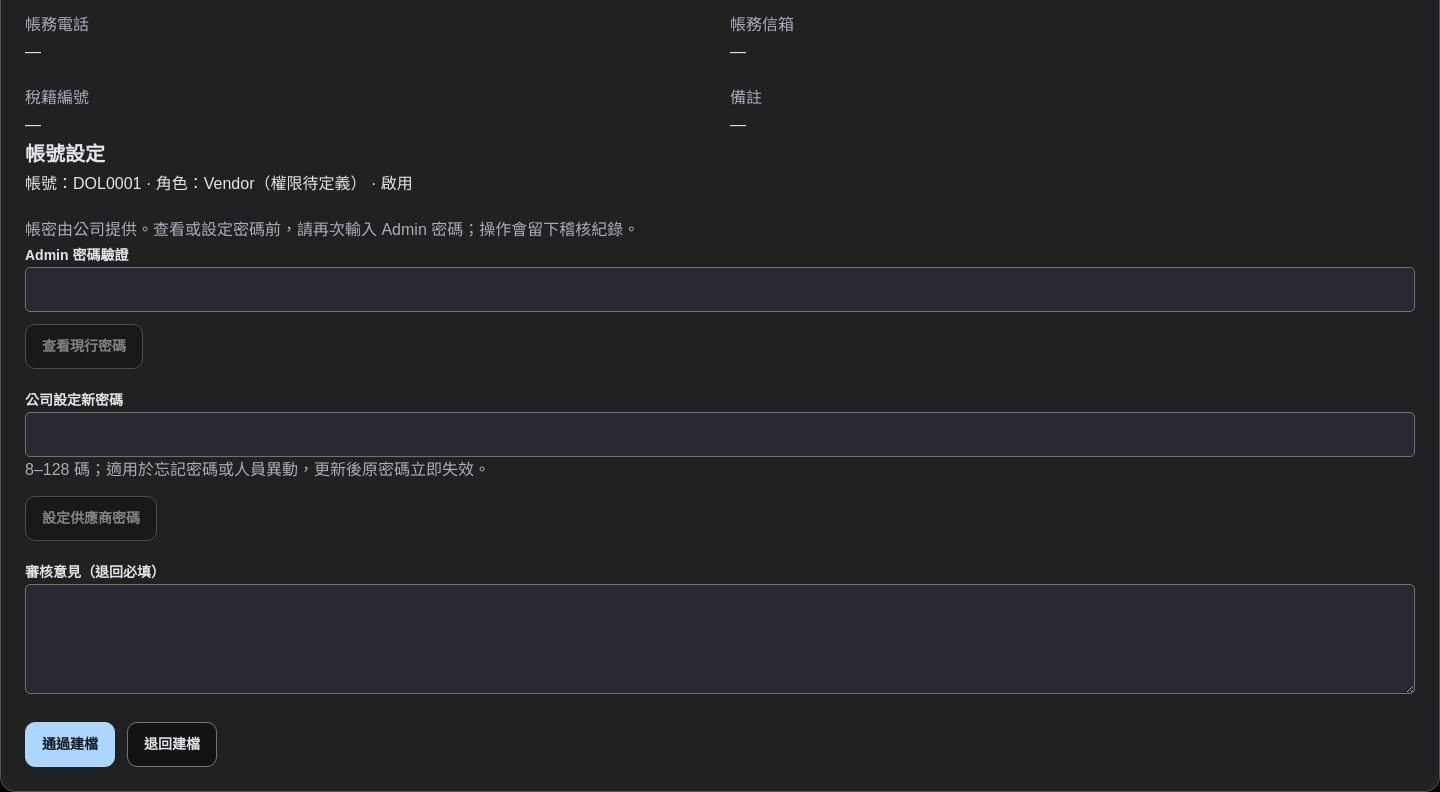
Test: 建檔審核寫入API並更新畫面
(page scrolled)
Click the button "通過建檔" at [70, 745], box [25,722,115,767]
(page scrolled)
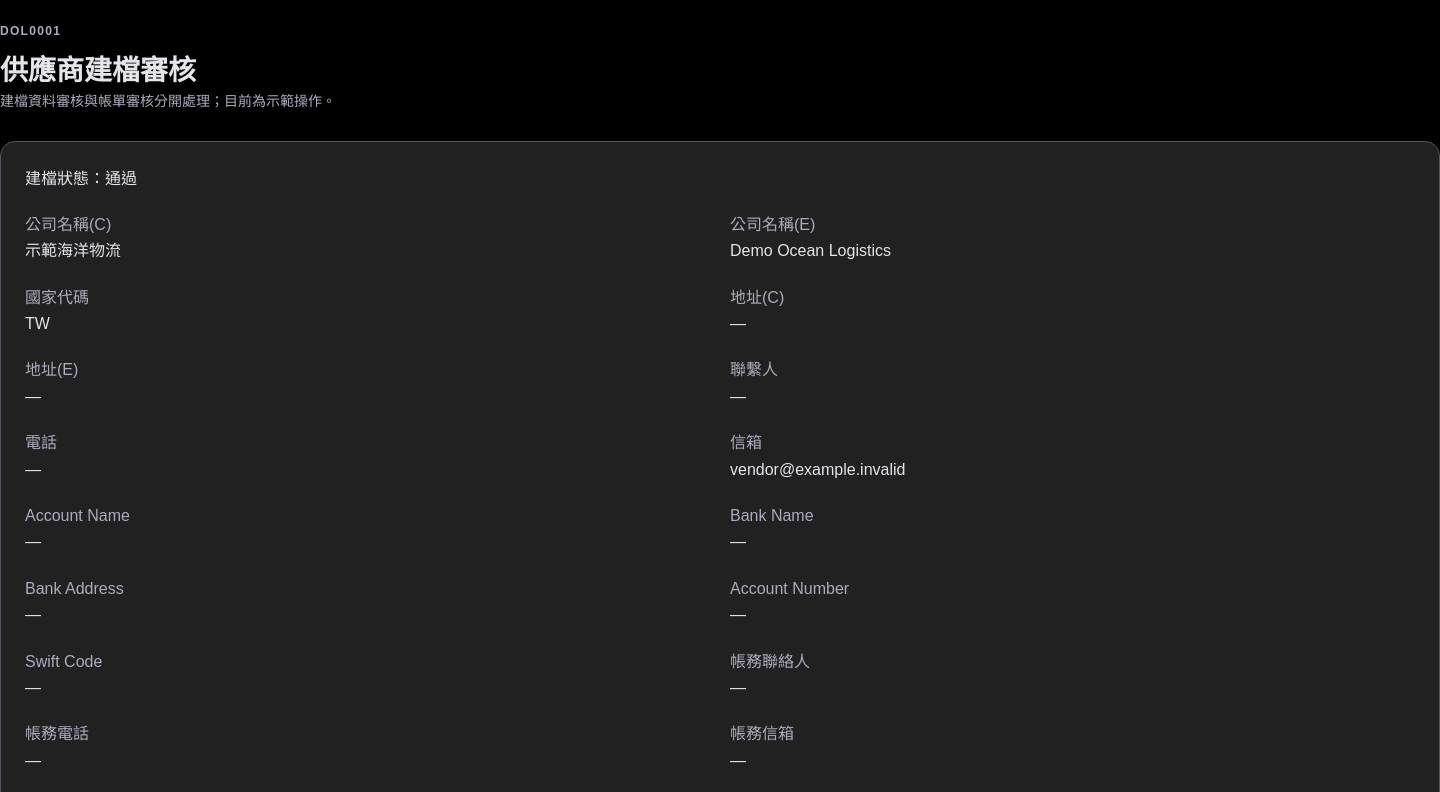
Now the message shows "通過", box [105,170,137,186]
